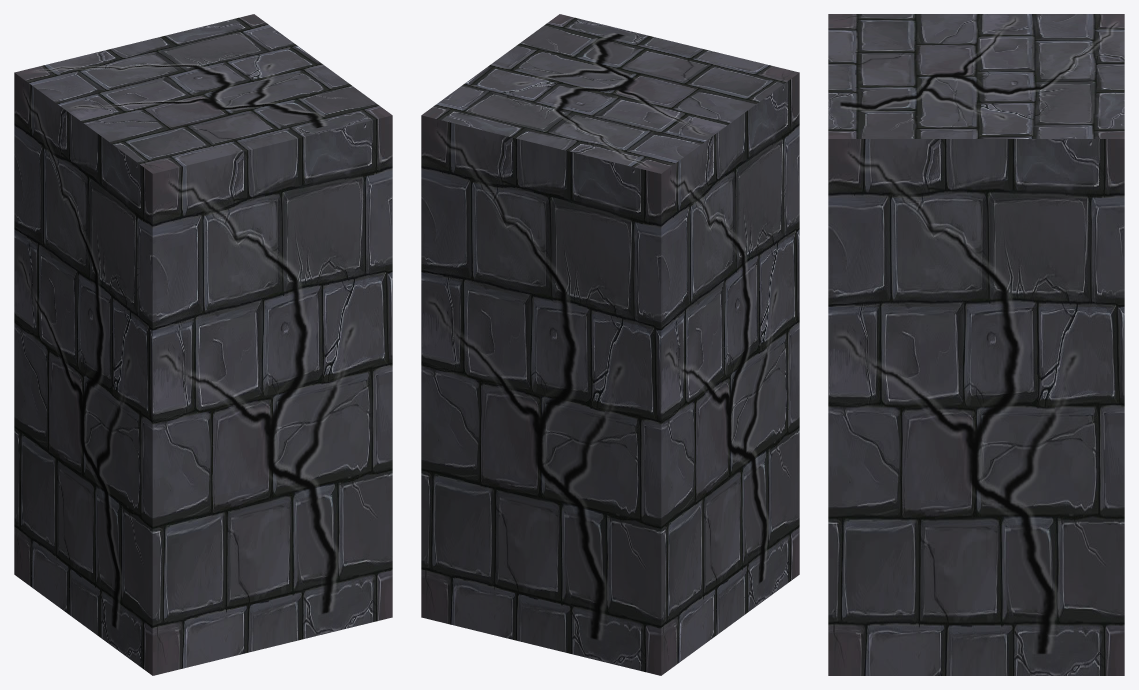
Rendered from CrackedWall.FBX.
The picture shows the model from 3 angles, left to right: view 1: azimuth 30°, elevation 25°; view 2: azimuth 150°, elevation 25°; view 3: azimuth 270°, elevation 25°; orthographic projection. The views are drawn at different scales.
Parts seen in each view (by area): view 1: Box001_Part_2, Box001_Part_4, Box001_Part_10, Box001_Part_7, Box001_Part_3, Box001_Part_8, Box001_Part_6, Box001_Part_5; view 2: Box001_Part_3, Box001_Part_6, Box001_Part_4, Box001_Part_7, Box001_Part_5, Box001_Part_10, Box001_Part_2, Box001_Part_1, Box001_Part_8; view 3: Box001_Part_4, Box001_Part_8, Box001_Part_9, Box001_Part_1, Box001_Part_2, Box001_Part_3, Box001_Part_6.
Part boxes in pixels (bbox=[...]): Box001_Part_2: bbox=[95, 233, 392, 580]; Box001_Part_4: bbox=[54, 14, 392, 275]; Box001_Part_10: bbox=[49, 438, 306, 675]; Box001_Part_7: bbox=[14, 321, 113, 567]; Box001_Part_3: bbox=[14, 31, 183, 303]; Box001_Part_8: bbox=[291, 519, 392, 638]; Box001_Part_6: bbox=[14, 261, 95, 359]; Box001_Part_5: bbox=[14, 553, 51, 601]; Box001_Part_3: bbox=[428, 132, 760, 362]; Box001_Part_6: bbox=[421, 286, 742, 534]; Box001_Part_4: bbox=[421, 14, 799, 231]; Box001_Part_7: bbox=[532, 343, 760, 654]; Box001_Part_5: bbox=[456, 529, 697, 675]; Box001_Part_10: bbox=[695, 393, 799, 648]; Box001_Part_2: bbox=[742, 163, 799, 414]; Box001_Part_1: bbox=[421, 146, 495, 348]; Box001_Part_8: bbox=[421, 481, 496, 625]; Box001_Part_4: bbox=[828, 14, 1124, 280]; Box001_Part_8: bbox=[828, 502, 1124, 675]; Box001_Part_9: bbox=[898, 331, 1124, 529]; Box001_Part_1: bbox=[858, 172, 1124, 389]; Box001_Part_2: bbox=[828, 265, 901, 569]; Box001_Part_3: bbox=[1039, 14, 1124, 102]; Box001_Part_6: bbox=[1114, 388, 1124, 503].
Size of the model in its own units: 1 by 2 by 1.
Materials: 1 (1 with a texture image).
